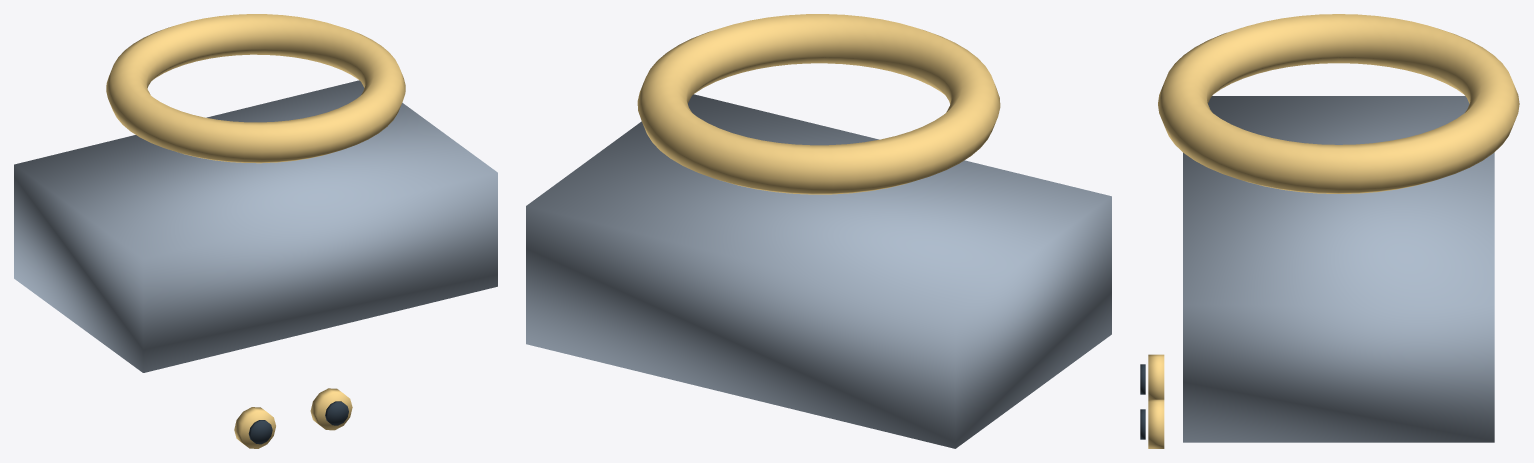
Rendered from 81_L90_ThrusterThrustCalibrationBalance.glb.
The picture shows the model from 3 angles, left to right: view 1: azimuth 30°, elevation 25°; view 2: azimuth 150°, elevation 25°; view 3: azimuth 270°, elevation 25°; orthographic projection. The views are drawn at different scales.
Parts seen in each view (by area): view 1: L90_ThrusterThrustCalibration_Part_0000, L90_ThrusterThrustCalibration_Part_0001, L90_ThrusterThrustCalibration_Part_0004, L90_ThrusterThrustCalibration_Part_0002; view 2: L90_ThrusterThrustCalibration_Part_0000, L90_ThrusterThrustCalibration_Part_0001; view 3: L90_ThrusterThrustCalibration_Part_0000, L90_ThrusterThrustCalibration_Part_0001, L90_ThrusterThrustCalibration_Part_0004, L90_ThrusterThrustCalibration_Part_0002.
Boxes of the visible parts, x1,y1,x2,y2 form: L90_ThrusterThrustCalibration_Part_0000: [14, 80, 497, 372]; L90_ThrusterThrustCalibration_Part_0001: [106, 14, 405, 163]; L90_ThrusterThrustCalibration_Part_0004: [310, 388, 352, 430]; L90_ThrusterThrustCalibration_Part_0002: [234, 407, 275, 448]; L90_ThrusterThrustCalibration_Part_0000: [526, 94, 1111, 448]; L90_ThrusterThrustCalibration_Part_0001: [637, 14, 1000, 194]; L90_ThrusterThrustCalibration_Part_0000: [1183, 96, 1494, 442]; L90_ThrusterThrustCalibration_Part_0001: [1158, 14, 1519, 193]; L90_ThrusterThrustCalibration_Part_0004: [1148, 399, 1164, 448]; L90_ThrusterThrustCalibration_Part_0002: [1148, 354, 1164, 399].
Bounding box in the file's own units: 1.3 × 1.06 × 0.998.
